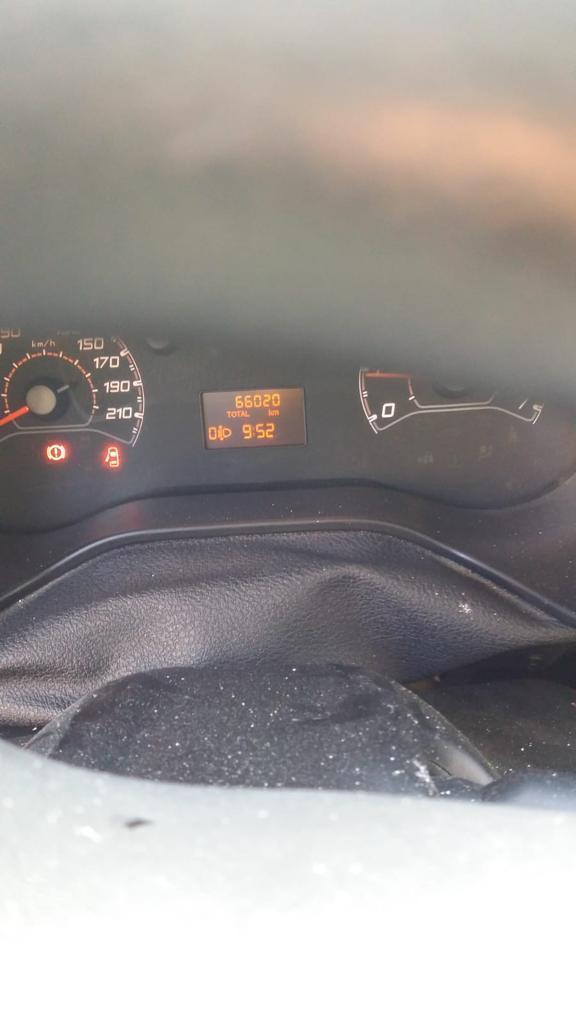0: (207, 426, 217, 440), (271, 393, 280, 406), (253, 394, 261, 407)
2: (265, 422, 274, 438), (262, 394, 271, 407)
5: (255, 422, 264, 439)
6: (234, 394, 243, 408), (243, 394, 252, 407)
9: (241, 423, 251, 439)
X: (267, 407, 273, 416), (273, 409, 279, 416), (230, 410, 236, 417), (244, 410, 250, 417), (236, 410, 241, 417), (225, 410, 230, 417), (251, 427, 254, 438), (241, 410, 244, 417)
odometer: (194, 381, 312, 453)
